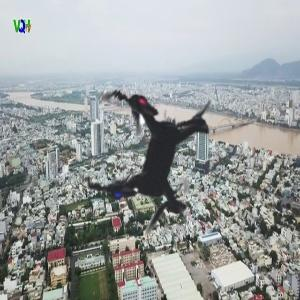drone: (22, 31, 287, 296)
